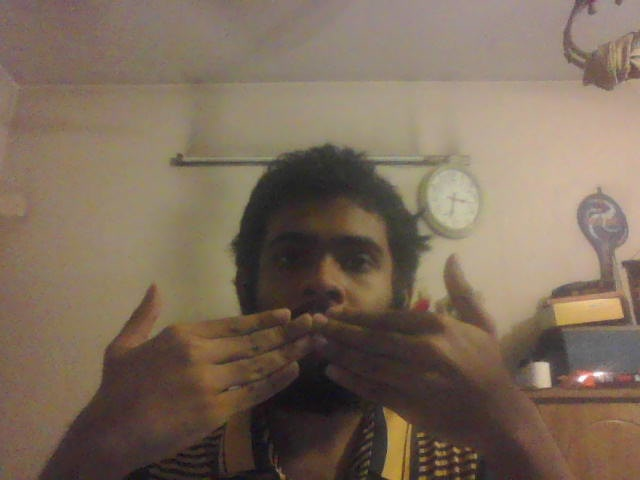Thank You: (105, 258, 517, 457)
